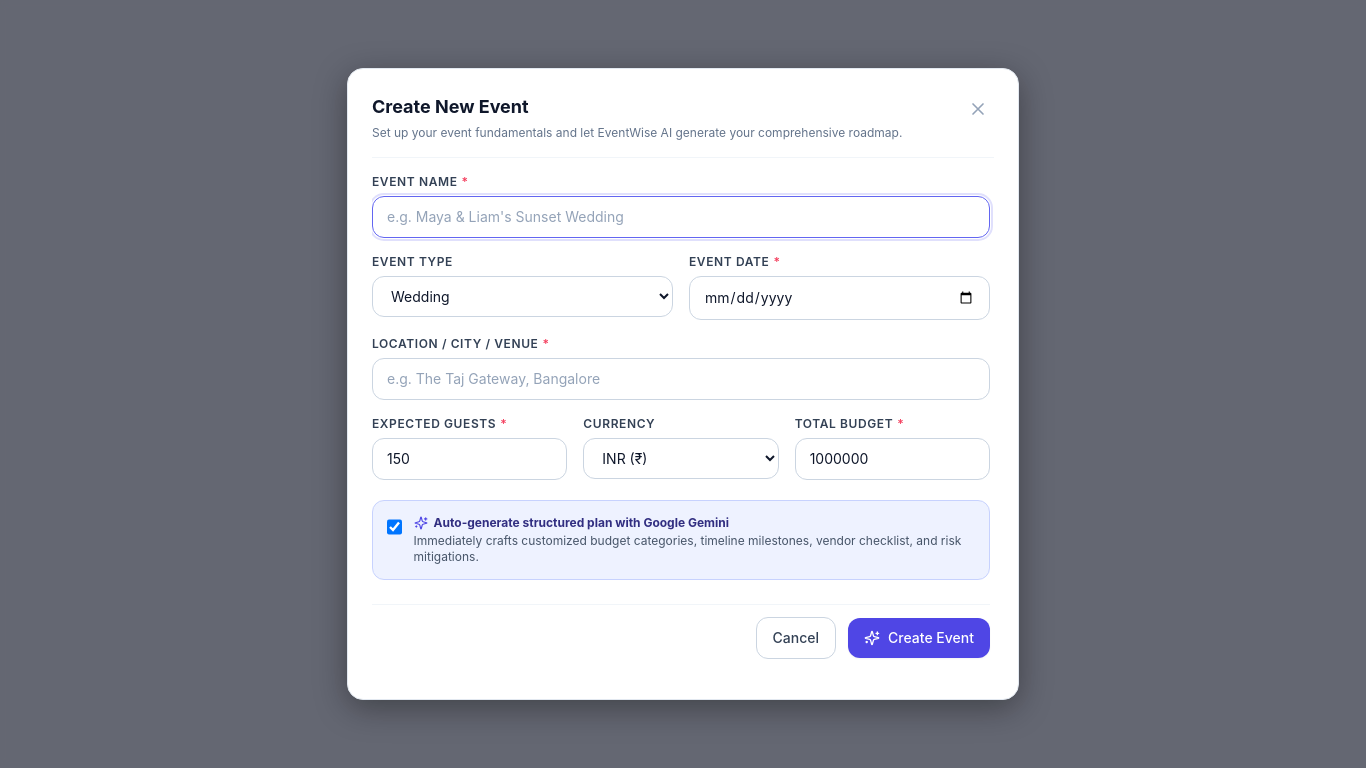
Test case: CreateEventModal component › shows validation error on empty submit
Click submit with empty name and date
Click the button "Create Event" at (919, 638), box left=848, top=618, right=990, bottom=658
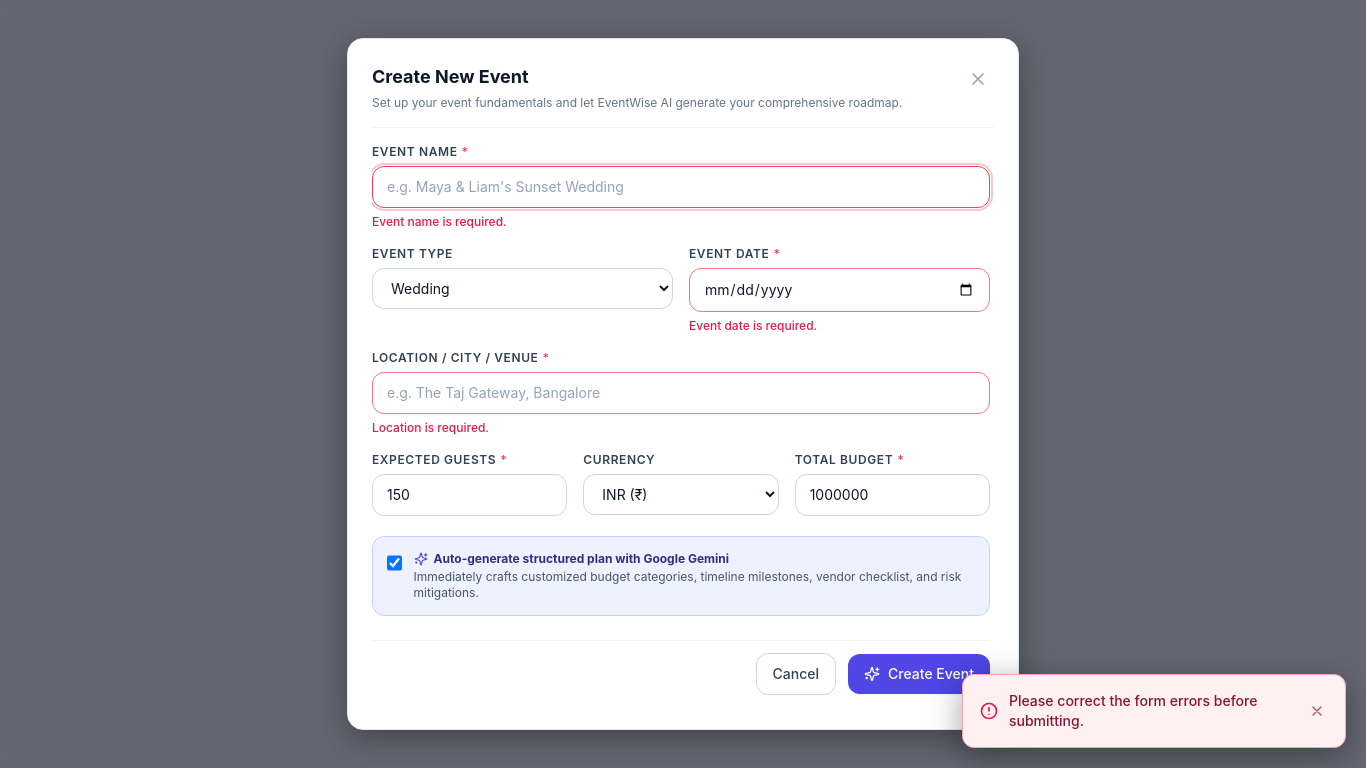
Now the text "Event name is required." is shown, box left=372, top=214, right=507, bottom=229
Typing into field clears error
Type "Valid Name" into the field labelled "Event Name*" at (681, 187), box left=372, top=166, right=990, bottom=208
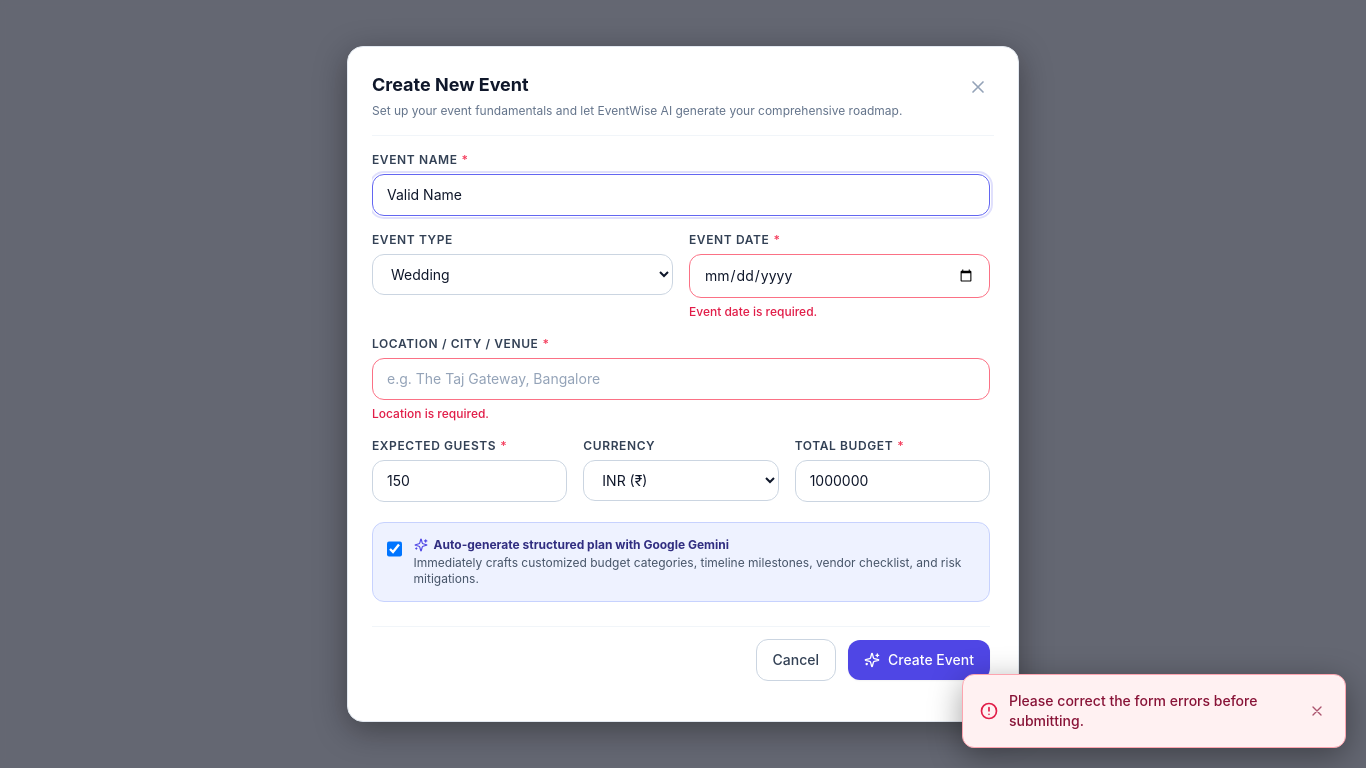
Now the text "Event name is required." is gone
